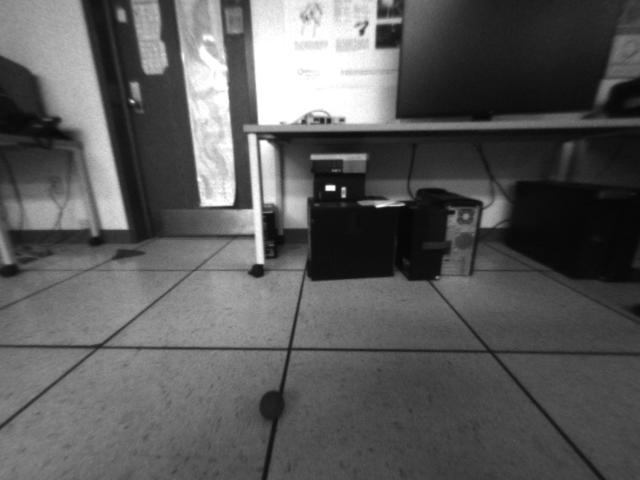dogtoy: (251, 381, 298, 424)
